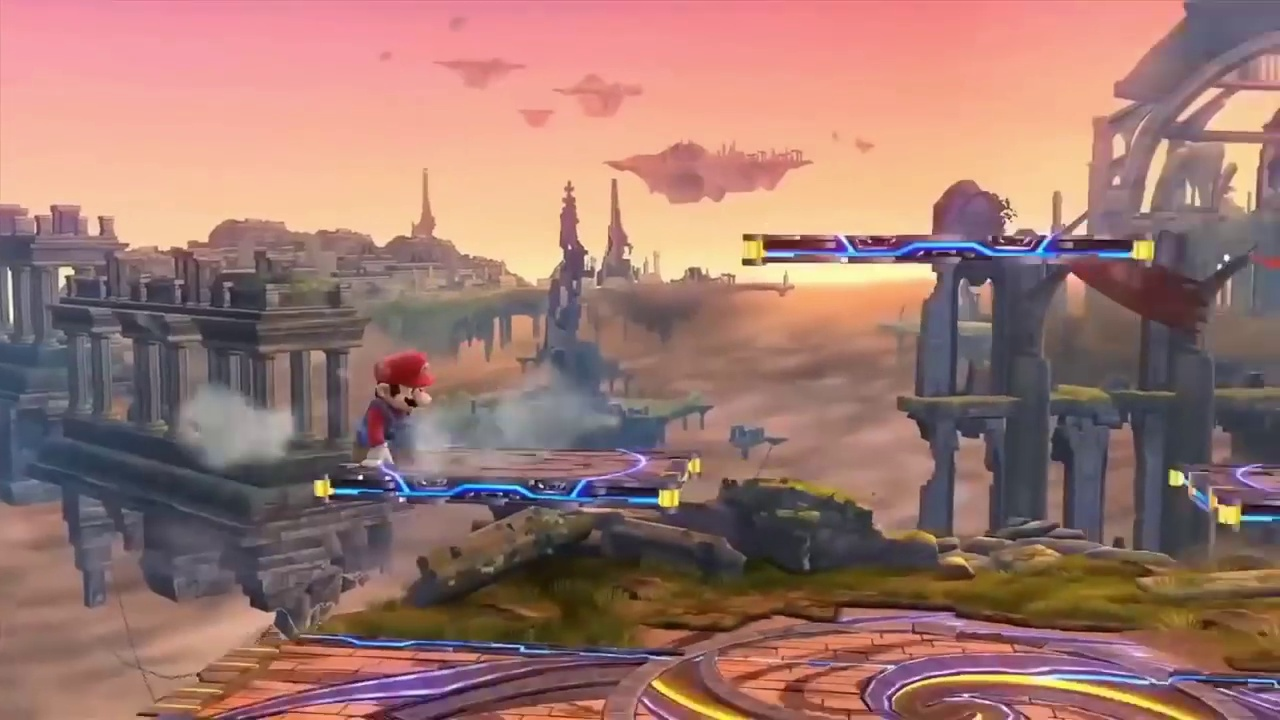Mario: (352, 355, 434, 468)
